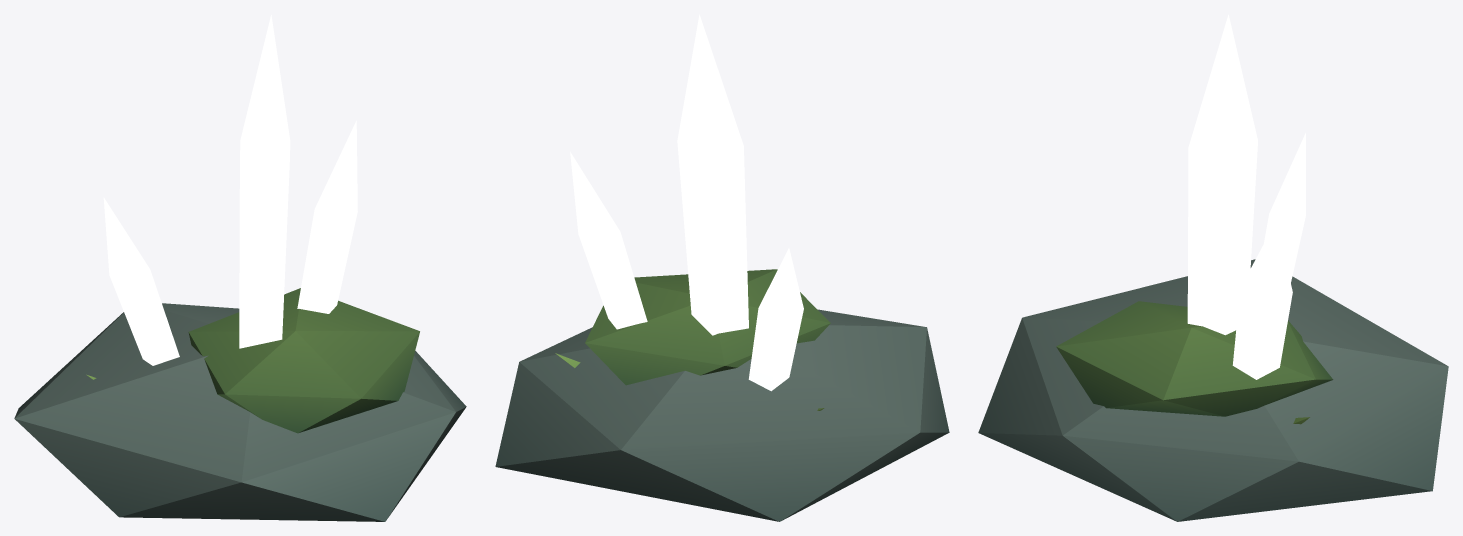
The model's file is crystal-cluster-s-lod1.glb.
3 views of the same model, side by side, from view 1: azimuth 30°, elevation 25°; view 2: azimuth 150°, elevation 25°; view 3: azimuth 270°, elevation 25° (orthographic). The views are drawn at different scales.
Parts seen in each view (by area): view 1: gg_crystal_cluster_s_lod1; view 2: gg_crystal_cluster_s_lod1; view 3: gg_crystal_cluster_s_lod1.
Boxes of the visible parts, x1,y1,x2,y2 form: gg_crystal_cluster_s_lod1: (14, 15, 466, 521); gg_crystal_cluster_s_lod1: (495, 14, 949, 521); gg_crystal_cluster_s_lod1: (978, 14, 1448, 521).
Size of the model in its own units: 1.01 by 0.9735 by 0.9804.
